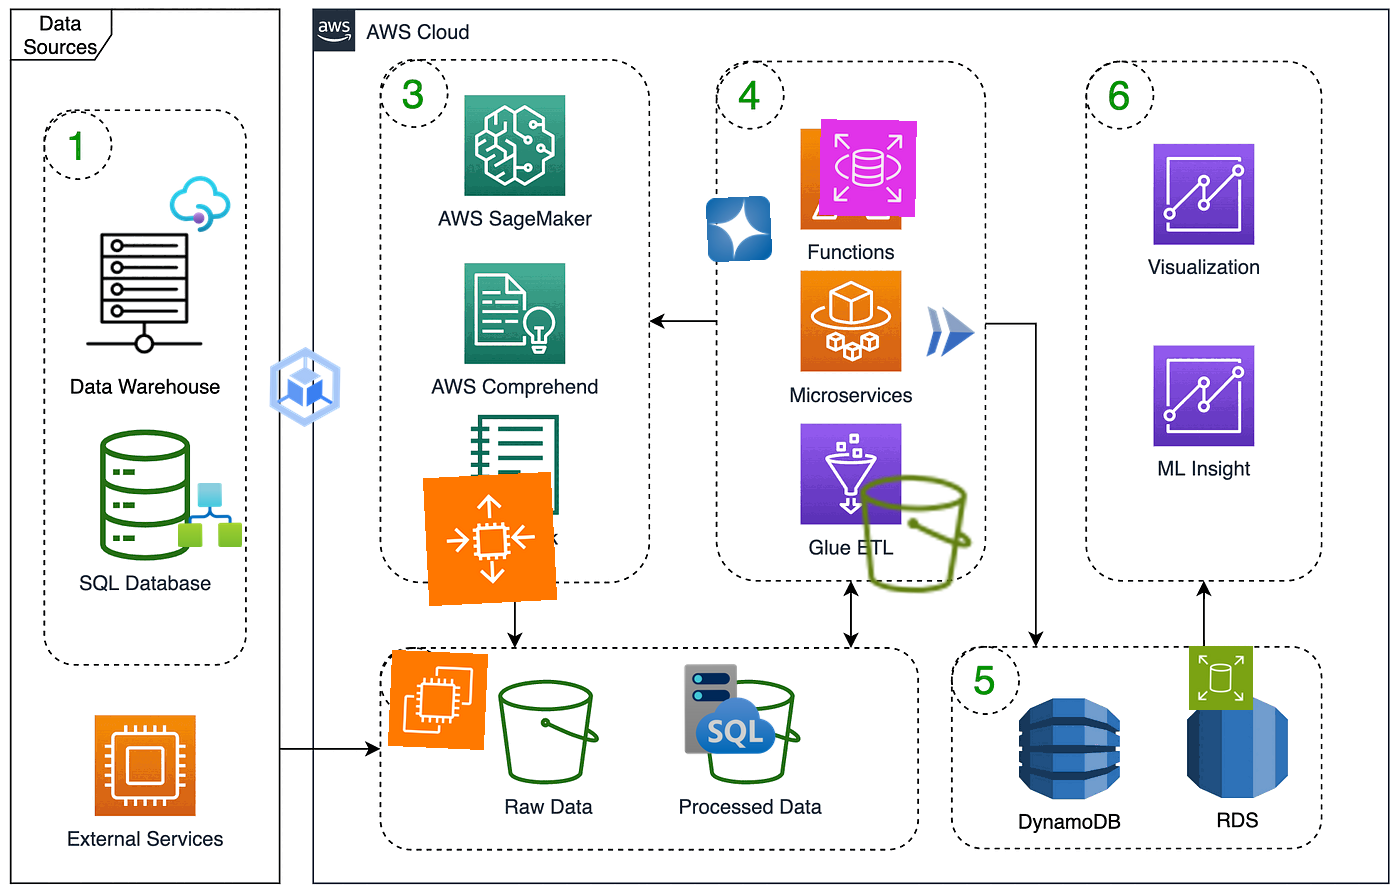aws_amazon_ec2: (387, 649, 489, 751)
aws_amazon_ec2_auto_scaling: (422, 471, 558, 607)
aws_amazon_elastic_block_store: (1188, 645, 1254, 711)
aws_amazon_rds: (819, 119, 917, 217)
aws_simple_storage_service_s3_standard: (848, 467, 982, 601)
azure_api_management_services: (165, 169, 235, 239)
azure_logic_apps: (177, 482, 243, 548)
azure_openai: (705, 195, 773, 263)
azure_sql_managed_instance: (681, 660, 779, 758)
gcp_cloud_run: (917, 299, 983, 365)
gcp_google_kubernetes_engine: (256, 338, 354, 436)
